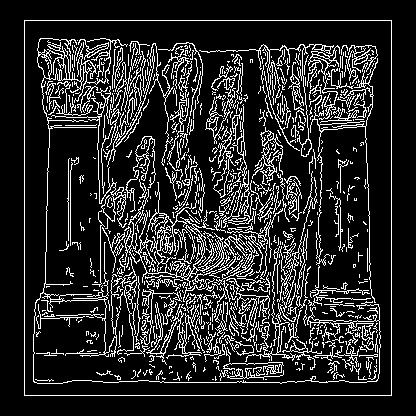buddha-sleeping: (129, 150, 208, 276)
